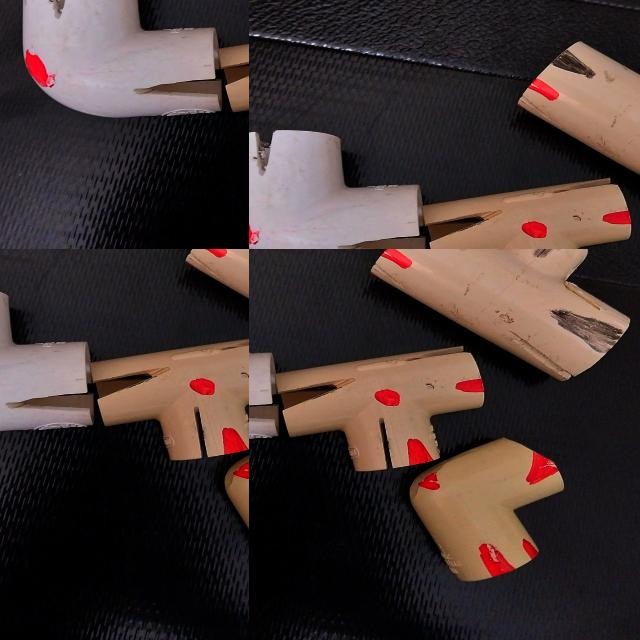Defective: (548, 312, 618, 351), (376, 409, 396, 470), (285, 386, 342, 404), (479, 542, 507, 574), (530, 454, 558, 482), (382, 250, 416, 272), (249, 402, 279, 422), (409, 440, 430, 466), (374, 391, 400, 407), (453, 380, 482, 394), (416, 476, 441, 491), (522, 540, 538, 558)
L Joint: (409, 440, 565, 583), (249, 298, 303, 439)
T Joint: (367, 249, 628, 390), (264, 342, 494, 469)
